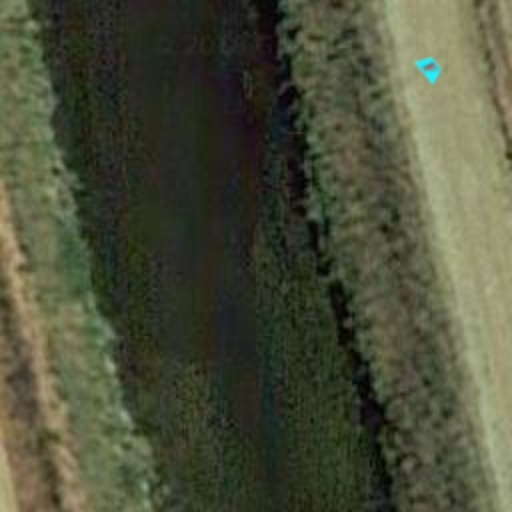trapezoid: (408, 46, 452, 90)
